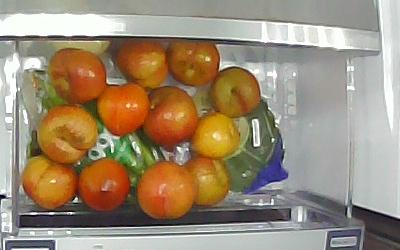prune: (136, 160, 197, 220), (37, 105, 97, 164), (142, 87, 198, 149), (49, 48, 106, 104), (23, 156, 79, 211), (78, 157, 129, 212), (96, 83, 149, 135), (115, 39, 169, 88), (211, 67, 261, 117), (167, 41, 221, 87), (190, 111, 239, 158), (183, 158, 230, 207)
